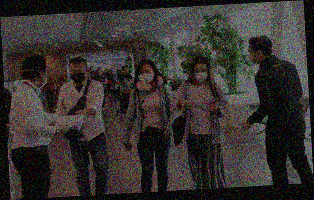with_mask: (68, 67, 86, 86), (138, 68, 155, 85), (193, 67, 209, 84), (38, 68, 48, 90), (248, 47, 259, 66), (90, 66, 94, 72), (103, 69, 107, 74)
without_mask: (122, 67, 129, 74), (96, 67, 102, 74), (123, 79, 129, 86)
